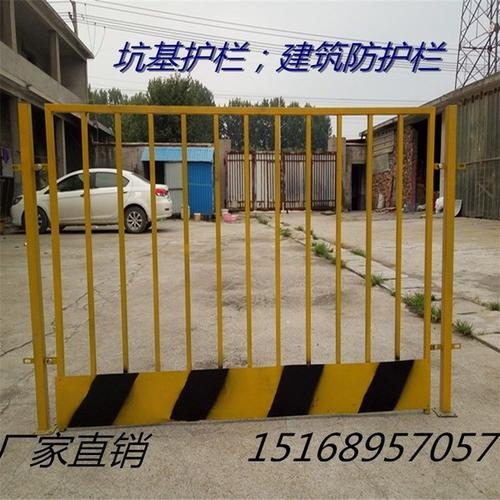sign: (14, 95, 475, 427)
